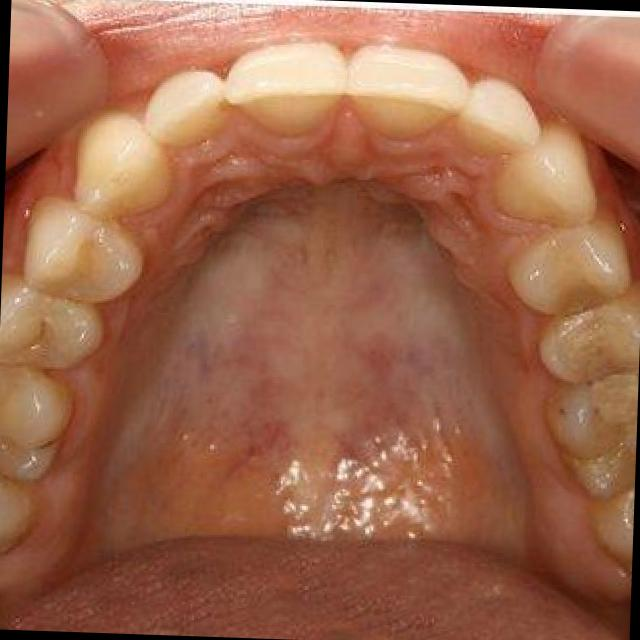Caries: (37, 441, 54, 450)
Tooth: (508, 200, 632, 315), (25, 196, 146, 302), (344, 45, 470, 137), (224, 42, 345, 135), (74, 113, 173, 219), (0, 273, 106, 369), (497, 124, 597, 225), (539, 283, 639, 383), (0, 363, 73, 480), (545, 365, 637, 457), (455, 80, 539, 154), (147, 71, 227, 145), (562, 425, 635, 500)
